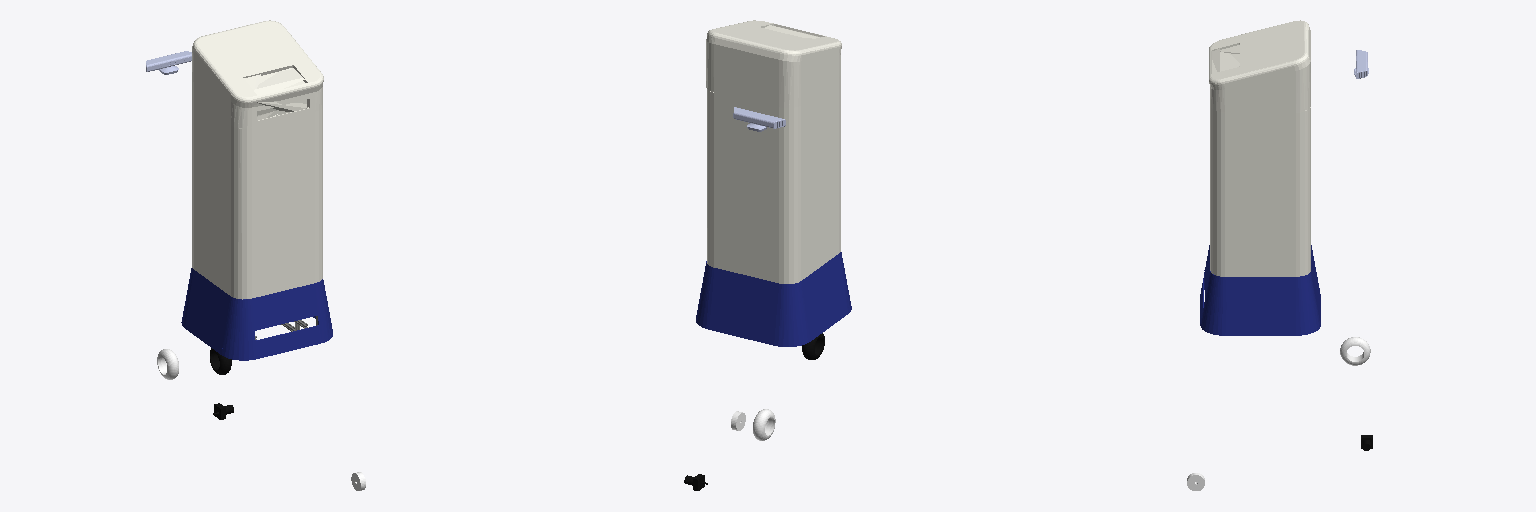
URDF robot description (robot_design):
<?xml version="1.0" encoding="utf-8"?>
<!-- This URDF was automatically created by SolidWorks to URDF Exporter! Originally created by [author] ([email redacted]) 
     Commit Version: 1.6.0-1-g15f4949  Build Version: 1.6.7594.29634
     For more information, please see http://wiki.ros.org/sw_urdf_exporter -->
<robot
  name="robot_design">
  <link
    name="base_link">
    <inertial>
      <origin
        xyz="-0.00309 0.032154 -0.00080422"
        rpy="0 0 0" />
      <mass
        value="2.6993E-11" />
      <inertia
        ixx="3.364E-17"
        ixy="-6.846E-22"
        ixz="-6.6371E-23"
        iyy="6.442E-22"
        iyz="-7.7026E-23"
        izz="3.364E-17" />
    </inertial>
    <visual>
      <origin
        xyz="0 0 0"
        rpy="0 0 0" />
      <geometry>
        <mesh
          filename="package://robot_design/meshes/base_link.STL" />
      </geometry>
      <material
        name="">
        <color
          rgba="0.18824 0.23137 0.58824 1" />
      </material>
    </visual>
    <collision>
      <origin
        xyz="0 0 0"
        rpy="0 0 0" />
      <geometry>
        <mesh
          filename="package://robot_design/meshes/base_link.STL" />
      </geometry>
    </collision>
  </link>
  <link
    name="BaseFrameLink">
    <inertial>
      <origin
        xyz="1.925 -0.0345945771464101 0.225000000000282"
        rpy="0 0 0" />
      <mass
        value="1.80403166232039" />
      <inertia
        ixx="0.0178653936830095"
        ixy="-1.05779713445156E-17"
        ixz="4.26430624171427E-17"
        iyy="0.020396021619498"
        iyz="2.17151528411626E-17"
        izz="0.0229266495559864" />
    </inertial>
    <visual>
      <origin
        xyz="0 0 0"
        rpy="0 0 0" />
      <geometry>
        <mesh
          filename="package://robot_design/meshes/BaseFrameLink.STL" />
      </geometry>
      <material
        name="">
        <color
          rgba="0.537254901960784 0.537254901960784 0.537254901960784 1" />
      </material>
    </visual>
    <collision>
      <origin
        xyz="0 0 0"
        rpy="0 0 0" />
      <geometry>
        <mesh
          filename="package://robot_design/meshes/BaseFrameLink.STL" />
      </geometry>
    </collision>
  </link>
  <joint
    name="BaseFrameJoint"
    type="fixed">
    <origin
      xyz="-0.047068 -2.3962 0.40214"
      rpy="1.5708 0 1.5708" />
    <parent
      link="base_link" />
    <child
      link="BaseFrameLink" />
    <axis
      xyz="0 0 0" />
  </joint>
  <link
    name="RightMotorLink">
    <inertial>
      <origin
        xyz="0.0635746027198067 0.309306300000008 0.0369188809232509"
        rpy="0 0 0" />
      <mass
        value="0.174311166935647" />
      <inertia
        ixx="7.63049300613637E-05"
        ixy="-4.22136504340412E-20"
        ixz="-8.64726401443359E-07"
        iyy="0.000129582523229778"
        iyz="-1.05795411259731E-21"
        izz="0.000129389175352264" />
    </inertial>
    <visual>
      <origin
        xyz="0 0 0"
        rpy="0 0 0" />
      <geometry>
        <mesh
          filename="package://robot_design/meshes/RightMotorLink.STL" />
      </geometry>
      <material
        name="">
        <color
          rgba="0.0980392156862745 0.0980392156862745 0.0980392156862745 1" />
      </material>
    </visual>
    <collision>
      <origin
        xyz="0 0 0"
        rpy="0 0 0" />
      <geometry>
        <mesh
          filename="package://robot_design/meshes/RightMotorLink.STL" />
      </geometry>
    </collision>
  </link>
  <joint
    name="RightMotorJoint"
    type="fixed">
    <origin
      xyz="1.868 -0.49431 0.13857"
      rpy="0 1.5708 0" />
    <parent
      link="BaseFrameLink" />
    <child
      link="RightMotorLink" />
    <axis
      xyz="0 0 0" />
  </joint>
  <link
    name="RightWheelHolderLink">
    <inertial>
      <origin
        xyz="0.1435656 0.309306299999999 0.0469297000000005"
        rpy="0 0 0" />
      <mass
        value="0.186233612504803" />
      <inertia
        ixx="0.000193124256167481"
        ixy="7.34683969263929E-36"
        ixz="1.73206505312213E-20"
        iyy="0.000110529649021601"
        iyz="-3.92980039877509E-36"
        izz="0.000110529649021601" />
    </inertial>
    <visual>
      <origin
        xyz="0 0 0"
        rpy="0 0 0" />
      <geometry>
        <mesh
          filename="package://robot_design/meshes/RightWheelHolderLink.STL" />
      </geometry>
      <material
        name="">
        <color
          rgba="1 1 1 1" />
      </material>
    </visual>
    <collision>
      <origin
        xyz="0 0 0"
        rpy="0 0 0" />
      <geometry>
        <mesh
          filename="package://robot_design/meshes/RightWheelHolderLink.STL" />
      </geometry>
    </collision>
  </link>
  <joint
    name="RightWheelHolderJoint"
    type="fixed">
    <origin
      xyz="0.262131200000004 0 0.0938594000000219"
      rpy="-3.14159265358978 0 3.14159265358979" />
    <parent
      link="RightMotorLink" />
    <child
      link="RightWheelHolderLink" />
    <axis
      xyz="0 0 0" />
  </joint>
  <link
    name="LeftMotorLink">
    <inertial>
      <origin
        xyz="0.0635746027198056 0.309306300000002 0.0369188809232283"
        rpy="0 0 0" />
      <mass
        value="0.174311166935647" />
      <inertia
        ixx="7.63049300613638E-05"
        ixy="-3.79518887414791E-20"
        ixz="-8.64726401443771E-07"
        iyy="0.000129582523229778"
        iyz="-2.67860356837263E-21"
        izz="0.000129389175352265" />
    </inertial>
    <visual>
      <origin
        xyz="0 0 0"
        rpy="0 0 0" />
      <geometry>
        <mesh
          filename="package://robot_design/meshes/LeftMotorLink.STL" />
      </geometry>
      <material
        name="">
        <color
          rgba="0.0980392156862745 0.0980392156862745 0.0980392156862745 1" />
      </material>
    </visual>
    <collision>
      <origin
        xyz="0 0 0"
        rpy="0 0 0" />
      <geometry>
        <mesh
          filename="package://robot_design/meshes/LeftMotorLink.STL" />
      </geometry>
    </collision>
  </link>
  <joint
    name="LeftMotorJoint"
    type="fixed">
    <origin
      xyz="1.9618 -0.49431 0.31143"
      rpy="3.1416 -1.5708 0" />
    <parent
      link="BaseFrameLink" />
    <child
      link="LeftMotorLink" />
    <axis
      xyz="0 0 0" />
  </joint>
  <link
    name="LeftWheelHolderLink">
    <inertial>
      <origin
        xyz="0.143565599999999 0.309306300000007 0.0469296999999842"
        rpy="0 0 0" />
      <mass
        value="0.186233612504803" />
      <inertia
        ixx="0.000193124256167481"
        ixy="-7.98297913806615E-20"
        ixz="-5.47617888991249E-19"
        iyy="0.0001105296490216"
        iyz="0"
        izz="0.0001105296490216" />
    </inertial>
    <visual>
      <origin
        xyz="0 0 0"
        rpy="0 0 0" />
      <geometry>
        <mesh
          filename="package://robot_design/meshes/LeftWheelHolderLink.STL" />
      </geometry>
      <material
        name="">
        <color
          rgba="1 1 1 1" />
      </material>
    </visual>
    <collision>
      <origin
        xyz="0 0 0"
        rpy="0 0 0" />
      <geometry>
        <mesh
          filename="package://robot_design/meshes/LeftWheelHolderLink.STL" />
      </geometry>
    </collision>
  </link>
  <joint
    name="LeftWheelHolderJoint"
    type="fixed">
    <origin
      xyz="-0.025 0.017342 -0.065452"
      rpy="0.21686 0 0" />
    <parent
      link="LeftMotorLink" />
    <child
      link="LeftWheelHolderLink" />
    <axis
      xyz="0 0 0" />
  </joint>
  <link
    name="FrontSwivelWheelLink">
    <inertial>
      <origin
        xyz="0.0364854927658088 -0.0666056174436166 -4.21934666211543E-06"
        rpy="0 0 0" />
      <mass
        value="0.238478719640522" />
      <inertia
        ixx="0.000259371959725285"
        ixy="8.08816851793253E-06"
        ixz="6.1545715973198E-09"
        iyy="0.000260349151062166"
        iyz="-1.06514044693641E-08"
        izz="0.00046823767776299" />
    </inertial>
    <visual>
      <origin
        xyz="0 0 0"
        rpy="0 0 0" />
      <geometry>
        <mesh
          filename="package://robot_design/meshes/FrontSwivelWheelLink.STL" />
      </geometry>
      <material
        name="">
        <color
          rgba="0.8 0.807843137254902 0.8 1" />
      </material>
    </visual>
    <collision>
      <origin
        xyz="0 0 0"
        rpy="0 0 0" />
      <geometry>
        <mesh
          filename="package://robot_design/meshes/FrontSwivelWheelLink.STL" />
      </geometry>
    </collision>
  </link>
  <joint
    name="FrontSwivelWheelJoint"
    type="fixed">
    <origin
      xyz="1.758 -0.11438 0.225"
      rpy="3.1416 0 3.1416" />
    <parent
      link="BaseFrameLink" />
    <child
      link="FrontSwivelWheelLink" />
    <axis
      xyz="0 0 0" />
  </joint>
  <link
    name="BackSwivelWheelLink">
    <inertial>
      <origin
        xyz="0.0364854927725196 0.0666056174512983 4.21932540745074E-06"
        rpy="0 0 0" />
      <mass
        value="0.238478719887025" />
      <inertia
        ixx="0.000259371959802436"
        ixy="-8.0881685293846E-06"
        ixz="-6.1545815367994E-09"
        iyy="0.000260349151135407"
        iyz="-1.06514429607884E-08"
        izz="0.000468237677765063" />
    </inertial>
    <visual>
      <origin
        xyz="0 0 0"
        rpy="0 0 0" />
      <geometry>
        <mesh
          filename="package://robot_design/meshes/BackSwivelWheelLink.STL" />
      </geometry>
      <material
        name="">
        <color
          rgba="0.8 0.807843137254902 0.8 1" />
      </material>
    </visual>
    <collision>
      <origin
        xyz="0 0 0"
        rpy="0 0 0" />
      <geometry>
        <mesh
          filename="package://robot_design/meshes/BackSwivelWheelLink.STL" />
      </geometry>
    </collision>
  </link>
  <joint
    name="BackSwivelWheelJoint"
    type="fixed">
    <origin
      xyz="2.092 -0.11438 0.225"
      rpy="3.1416 0 0" />
    <parent
      link="BaseFrameLink" />
    <child
      link="BackSwivelWheelLink" />
    <axis
      xyz="0 0 0" />
  </joint>
  <link
    name="MainBodyLink">
    <inertial>
      <origin
        xyz="0.924945866748017 0.312240718170233 1.03170937190914"
        rpy="0 0 0" />
      <mass
        value="15.7223989505737" />
      <inertia
        ixx="1.1613332639017"
        ixy="-0.0384827887462151"
        ixz="-0.00836721922962208"
        iyy="1.31670250326503"
        iyz="0.0140443561818124"
        izz="0.837150872051241" />
    </inertial>
    <visual>
      <origin
        xyz="0 0 0"
        rpy="0 0 0" />
      <geometry>
        <mesh
          filename="package://robot_design/meshes/MainBodyLink.STL" />
      </geometry>
      <material
        name="">
        <color
          rgba="0.972549019607843 0.968627450980392 0.929411764705882 1" />
      </material>
    </visual>
    <collision>
      <origin
        xyz="0 0 0"
        rpy="0 0 0" />
      <geometry>
        <mesh
          filename="package://robot_design/meshes/MainBodyLink.STL" />
      </geometry>
    </collision>
  </link>
  <joint
    name="MainBodyJoint"
    type="fixed">
    <origin
      xyz="-0.74707 -0.77167 0.18214"
      rpy="0 0 0" />
    <parent
      link="base_link" />
    <child
      link="MainBodyLink" />
    <axis
      xyz="0 0 0" />
  </joint>
  <link
    name="KinectLink">
    <inertial>
      <origin
        xyz="-0.00683736561252293 0.00422441796679807 0.0318215229406513"
        rpy="0 0 0" />
      <mass
        value="0.658654793489767" />
      <inertia
        ixx="0.000269650115760434"
        ixy="9.35912056841219E-07"
        ixz="-4.30590322552481E-08"
        iyy="0.0029863532771689"
        iyz="5.71457394023284E-06"
        izz="0.00311131604592704" />
    </inertial>
    <visual>
      <origin
        xyz="0 0 0"
        rpy="0 0 0" />
      <geometry>
        <mesh
          filename="package://robot_design/meshes/KinectLink.STL" />
      </geometry>
      <material
        name="">
        <color
          rgba="0.792156862745098 0.819607843137255 0.933333333333333 1" />
      </material>
    </visual>
    <collision>
      <origin
        xyz="0 0 0"
        rpy="0 0 0" />
      <geometry>
        <mesh
          filename="package://robot_design/meshes/KinectLink.STL" />
      </geometry>
    </collision>
  </link>
  <joint
    name="KinectJoint"
    type="fixed">
    <origin
      xyz="0.73145 0.8 1.2182"
      rpy="0.061807 0 0" />
    <parent
      link="MainBodyLink" />
    <child
      link="KinectLink" />
    <axis
      xyz="0 0 0" />
  </joint>

   <link
   name="camera_link">
    <inertial>
      <origin
        xyz="0 0 0"
        rpy="0 0 0" />
      <mass
        value="0" />
      <inertia
        ixx="0"
        ixy="0"
        ixz="0"
        iyy="0"
        iyz="0"
        izz="0" />
    </inertial>
    <visual>
      <origin
        xyz="0 0 0"
        rpy="0 0 0" />
    </visual>
  </link>
  <joint
    name="camera_link_joint"
    type="fixed">
    <origin
      xyz="0 0 0"
      rpy="0 0 0" />
    <parent
      link="KinectLink" />
    <child
      link="camera_link" />
    <axis
      xyz="0 0 0" />
  </joint>
  
  <link
    name="RightWheelLink">
    <inertial>
      <origin
        xyz="-0.031 0 -1.6653E-16"
        rpy="0 0 0" />
      <mass
        value="0.5516" />
      <inertia
        ixx="0.001978"
        ixy="4.1116E-36"
        ixz="1.4283E-36"
        iyy="0.0011155"
        iyz="6.8856E-36"
        izz="0.0011155" />
    </inertial>
    <visual>
      <origin
        xyz="0 0 0"
        rpy="0 0 0" />
      <geometry>
        <mesh
          filename="package://robot_design/meshes/RightWheelLink.STL" />
      </geometry>
      <material
        name="">
        <color
          rgba="0.098039 0.098039 0.098039 1" />
      </material>
    </visual>
    <collision>
      <origin
        xyz="0 0 0"
        rpy="0 0 0" />
      <geometry>
        <mesh
          filename="package://robot_design/meshes/RightWheelLink.STL" />
      </geometry>
    </collision>
  </link>
  <joint
    name="RightWheelJoint"
    type="continuous">
    <origin
      xyz="0.012068E-16 -0.48135 0.071714"
      rpy="1.5708 0 0" />
    <parent
      link="base_link" />
    <child
      link="RightWheelLink" />
    <axis
      xyz="1 0 0" />
  </joint>
  <link
    name="LeftWheelLink">
    <inertial>
      <origin
        xyz="0 0 0"
        rpy="0 0 0" />
      <mass
        value="0" />
      <inertia
        ixx="0"
        ixy="0"
        ixz="0"
        iyy="0"
        iyz="0"
        izz="0" />
    </inertial>
    <visual>
      <origin
        xyz="0 0 0"
        rpy="0 0 0" />
      <geometry>
        <mesh
          filename="package://robot_design/meshes/LeftWheelLink.STL" />
      </geometry>
      <material
        name="">
        <color
          rgba="1 1 1 1" />
      </material>
    </visual>
    <collision>
      <origin
        xyz="0 0 0"
        rpy="0 0 0" />
      <geometry>
        <mesh
          filename="package://robot_design/meshes/LeftWheelLink.STL" />
      </geometry>
    </collision>
  </link>
  <joint
    name="LeftWheelJoint"
    type="continuous">
    <origin
      xyz="-0.012068E-16 0.48135 0.071714"
      rpy="-1.5708 3.14 0" />
    <parent
      link="base_link" />
    <child
      link="LeftWheelLink" />
    <axis
      xyz="1 0 0" />
  </joint>
</robot>

--- What the picture shows (computed from the rendered views, not written in the file) ---
The picture shows the robot from 3 angles, left to right: view 1: azimuth 30°, elevation 25°; view 2: azimuth 150°, elevation 25°; view 3: azimuth 270°, elevation 25°; orthographic projection.
Model robot_design with 13 links and 12 joints (2 continuous, 10 fixed), rooted at base_link, posed every joint at zero.
Visible links, largest first — view 1: MainBodyLink, base_link, KinectLink, LeftWheelLink; view 2: MainBodyLink, base_link, KinectLink, LeftWheelLink; view 3: MainBodyLink, base_link, LeftWheelLink.
Boxes of the visible links, <box> form: MainBodyLink: <box>192,20,323,299</box>; base_link: <box>181,268,332,360</box>; KinectLink: <box>146,51,191,74</box>; LeftWheelLink: <box>157,349,178,379</box>; MainBodyLink: <box>706,20,841,283</box>; base_link: <box>696,252,851,346</box>; KinectLink: <box>733,107,785,131</box>; LeftWheelLink: <box>753,409,775,440</box>; MainBodyLink: <box>1209,20,1310,276</box>; base_link: <box>1200,245,1320,335</box>; LeftWheelLink: <box>1340,337,1370,365</box>.
Size in the robot's own frame: 0.7307 by 0.9239 by 2.31 metres.
10 mesh visuals loaded from 12 distinct referenced files (10 binary STL); not drawn: 2 (reference not matched to a file when rendering).